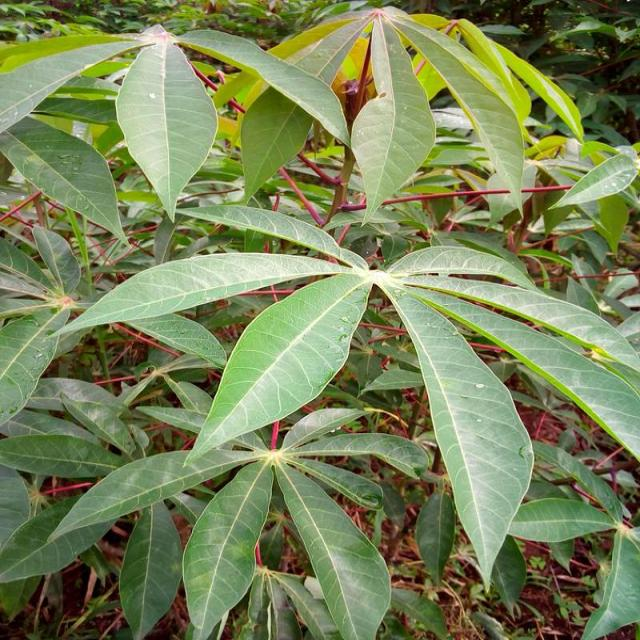cassava leaf: (2, 5, 640, 637), (386, 280, 536, 593), (183, 271, 374, 467), (116, 32, 219, 222)
